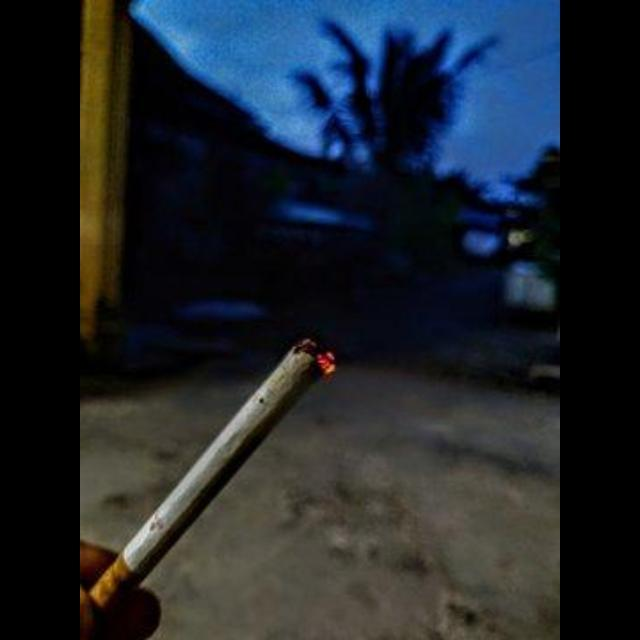rokok: (80, 324, 344, 614)
